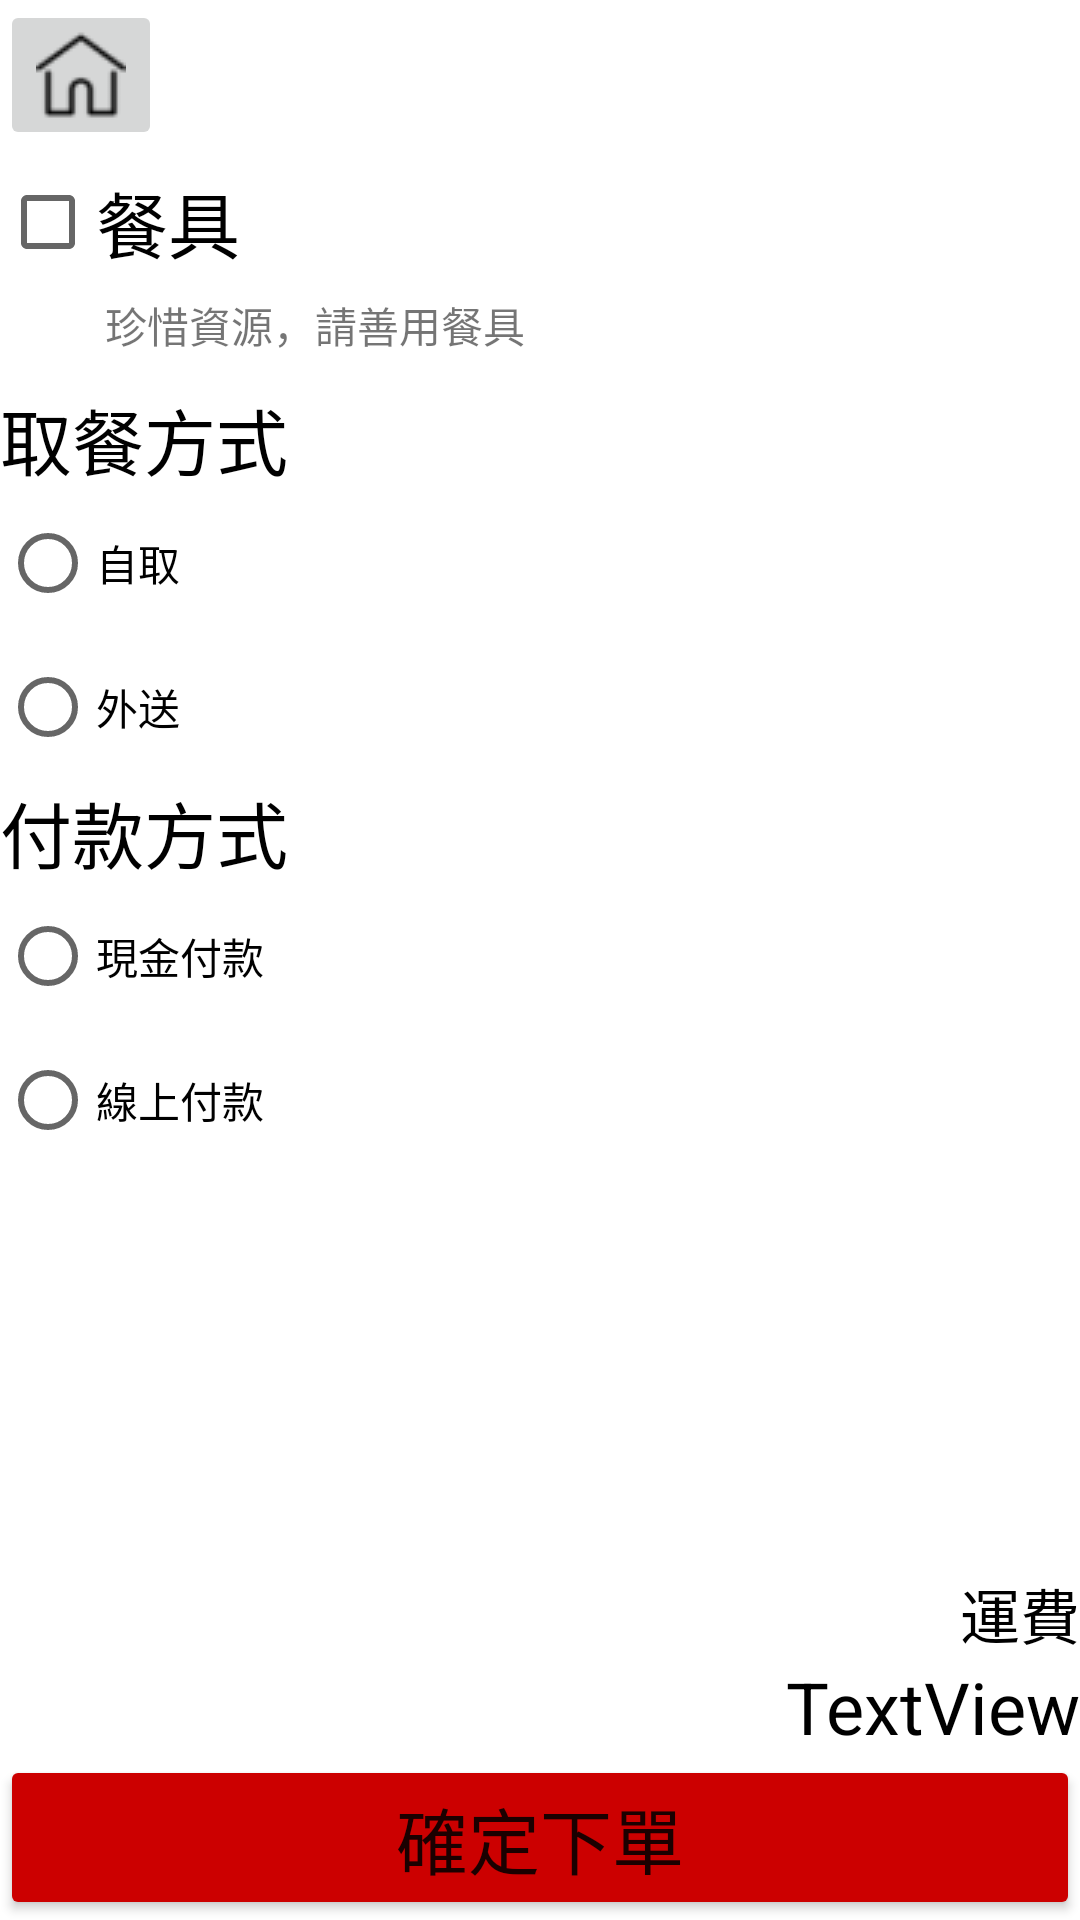

Where to tap for icons on this 1080×1920 app screen, as (x,y):
homepage: (81,75)
